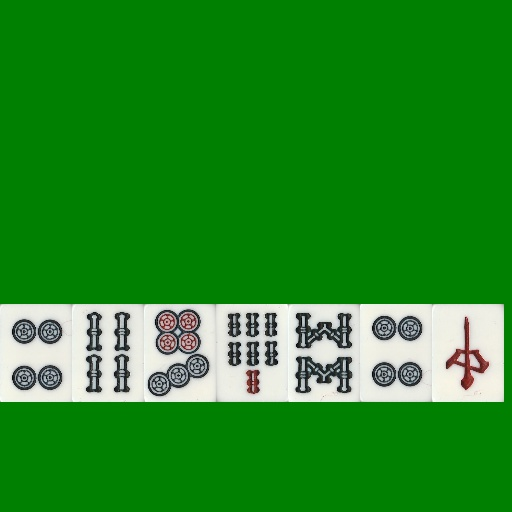4p: (0, 304, 72, 402), (360, 304, 432, 402)
4s: (72, 304, 144, 402)
7p: (144, 304, 216, 402)
7s: (216, 304, 288, 402)
8s: (288, 304, 360, 402)
tyun: (432, 304, 504, 402)
